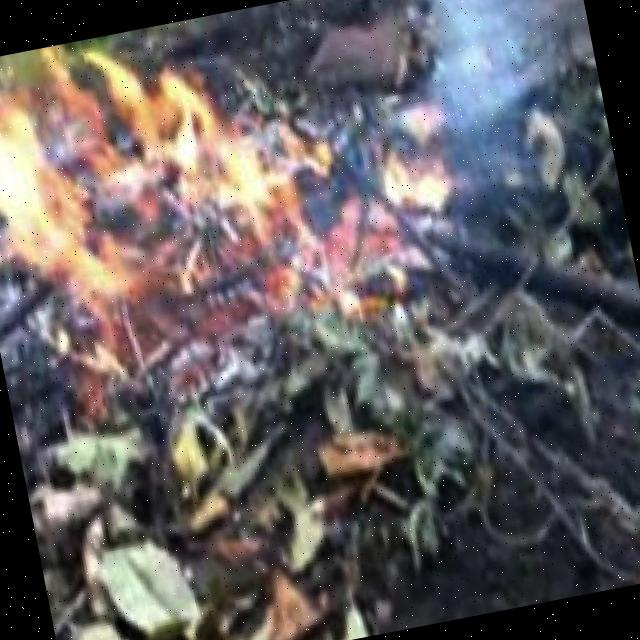fire: (0, 5, 356, 376), (366, 130, 470, 238)
